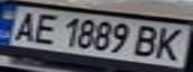1: (57, 15, 81, 48)
8: (93, 18, 115, 53), (75, 16, 96, 51)
9: (109, 20, 136, 55)
A: (6, 9, 42, 43)
B: (130, 24, 163, 58)
E: (27, 11, 63, 46)
K: (151, 25, 190, 62)
